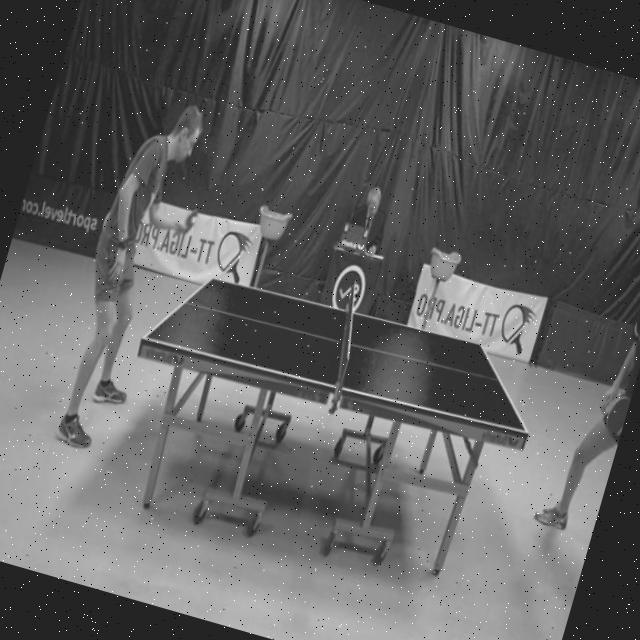ping-pong-ball: (187, 212, 198, 226)
